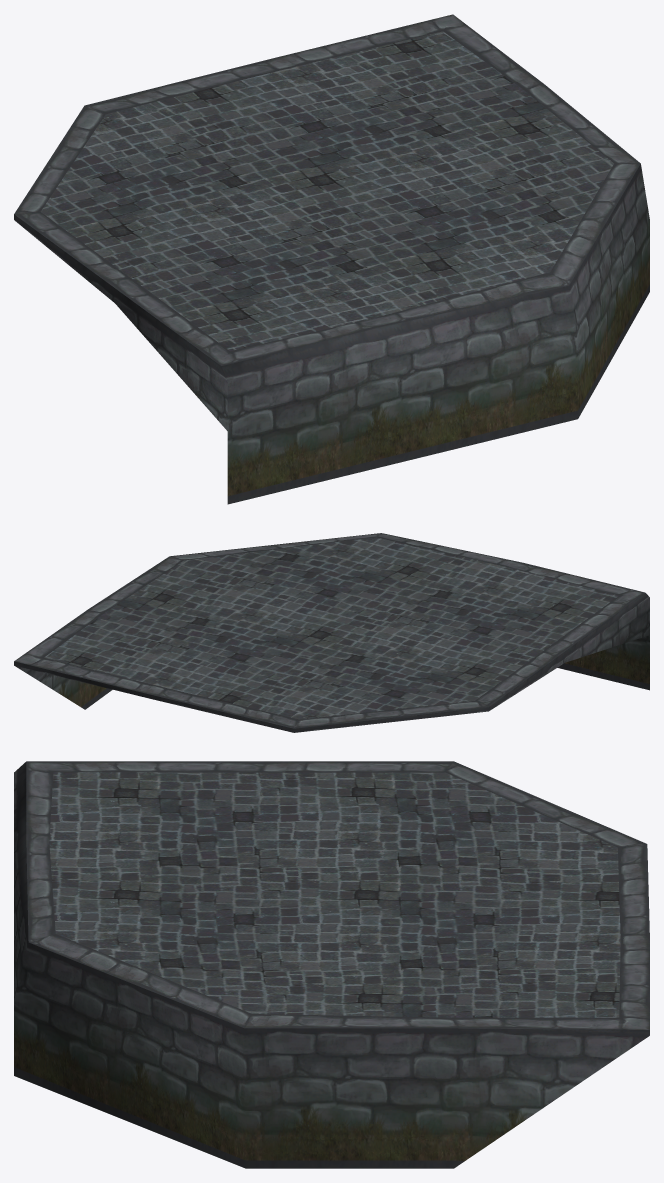
Rendered from terrain_towncenterstone05.fbx.
3 renders of one model, top to bottom at view 1: azimuth 30°, elevation 25°; view 2: azimuth 150°, elevation 25°; view 3: azimuth 270°, elevation 25°, orthographic. The views are drawn at different scales.
Visible parts, largest first — view 1: terrain_towncenterstone05-0; view 2: terrain_towncenterstone05-0; view 3: terrain_towncenterstone05-0.
Boxes of the visible parts, x1,y1,x2,y2 form: terrain_towncenterstone05-0: (14, 14, 649, 504); terrain_towncenterstone05-0: (14, 533, 649, 732); terrain_towncenterstone05-0: (14, 761, 649, 1168).
Bounding box in the file's own units: 12.32 × 2.95 × 12.32.
